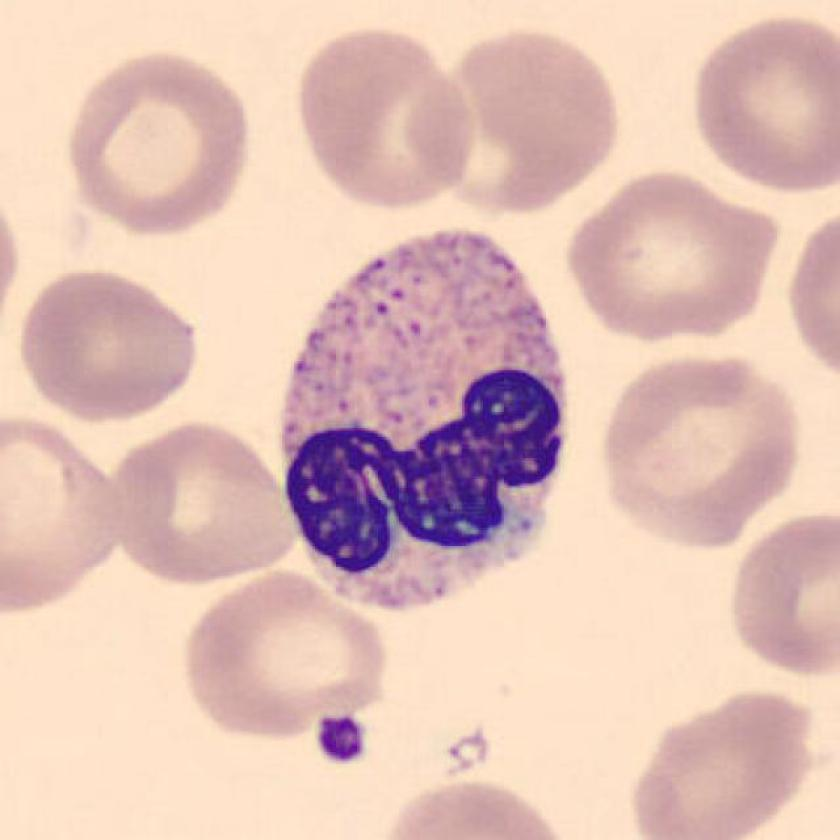neutrophil: (274, 235, 568, 617)
